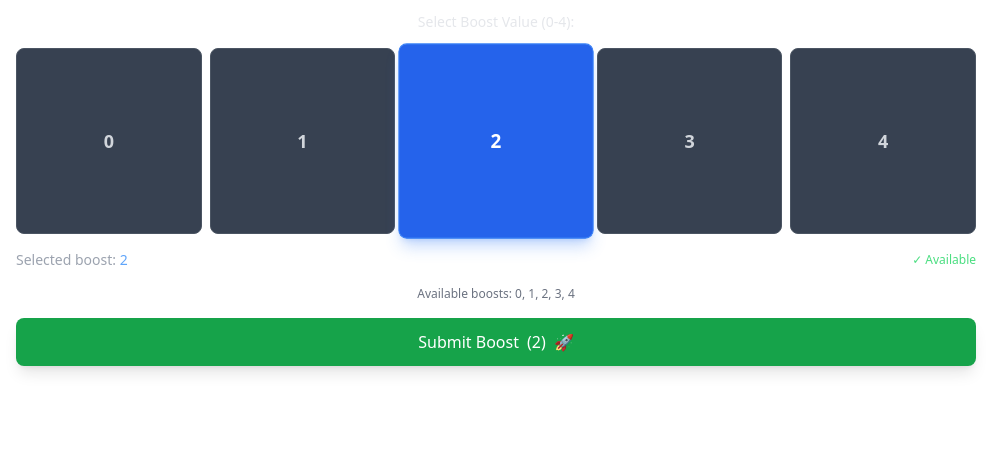
Test case: BoostSelector › shows confirmation dialog when submit is clicked
The width and height of the screenshot is (993, 465).
Click the button with aria-label "Submit boost selection" at (496, 342), box x1=16 y1=318 x2=976 y2=366
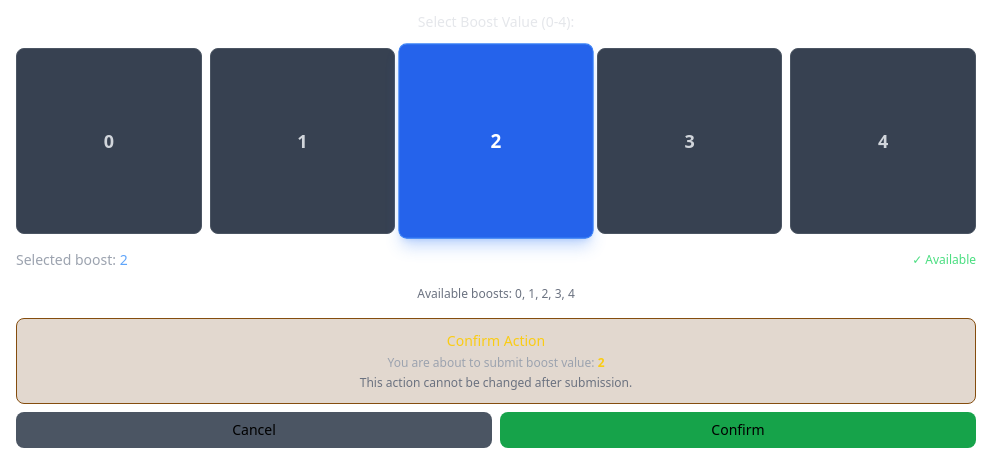
Expected: the text "Confirm Action" is shown, x1=447 y1=331 x2=545 y2=350
Expected: the text "You are about to submit boost value: 2" is shown, x1=388 y1=354 x2=604 y2=371
